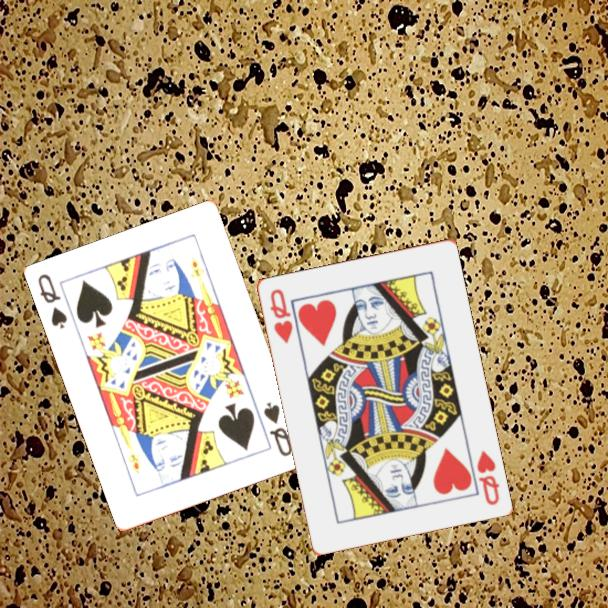h12: (473, 446, 502, 508), (266, 285, 295, 346)
s12: (35, 270, 71, 332), (260, 399, 296, 460)
